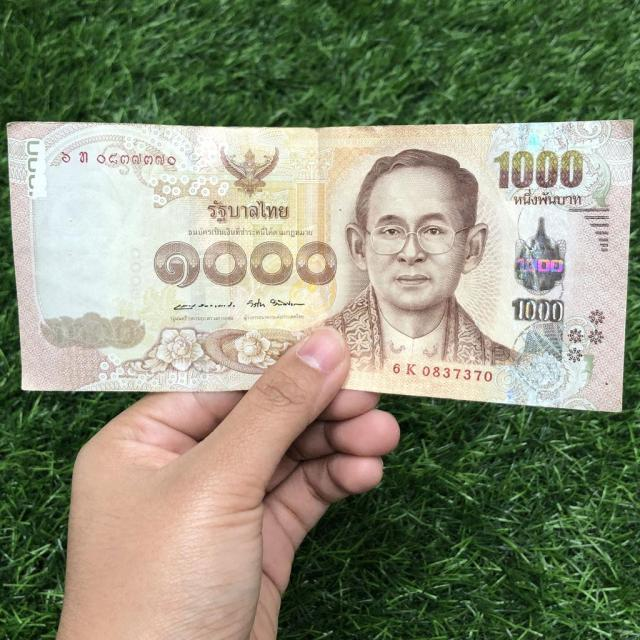THAI1000: (7, 120, 635, 414)
